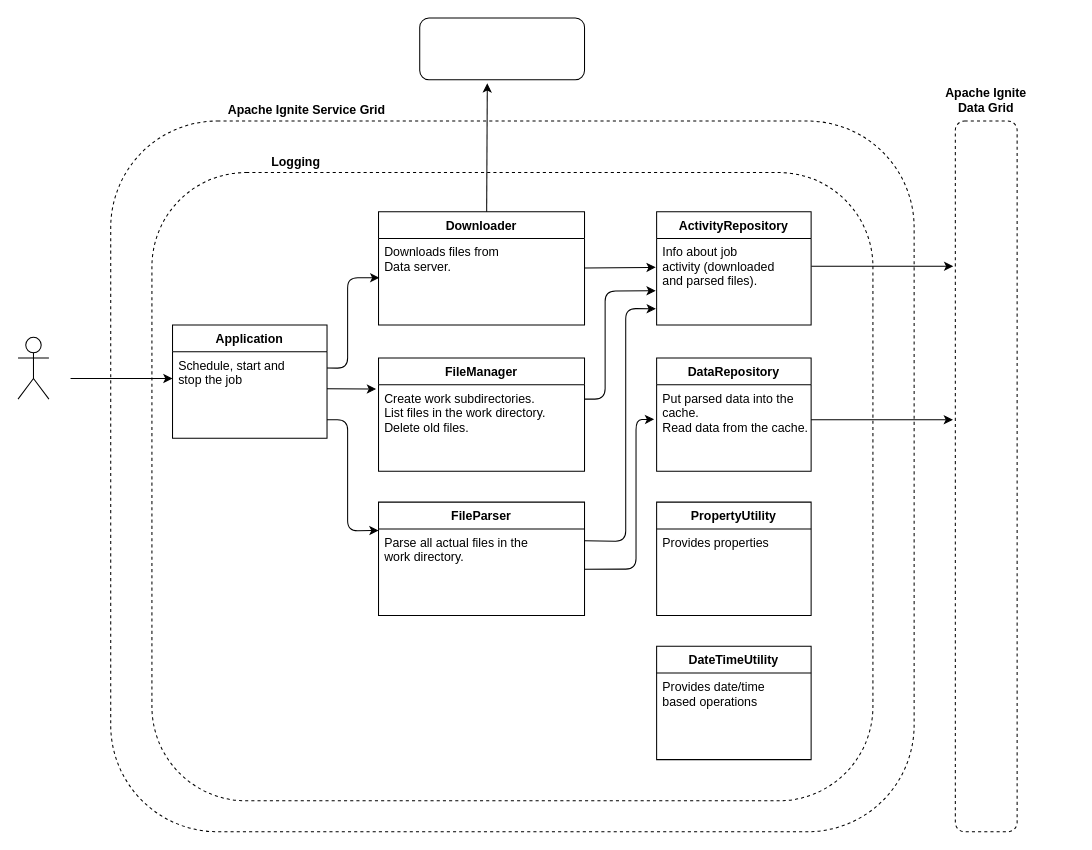
Some shapes in this 1092 by 850 pixel diagram are drawn without their labels. The shapes that lost their labels are listed below. From the top down, each one's centre as x and y in pixels, then its label:
(502,48): Data server
(33,367): Actor
